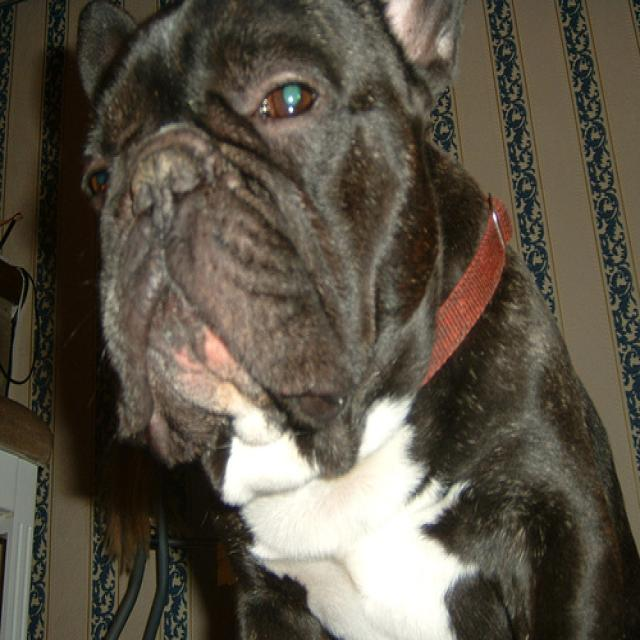dog: (69, 3, 640, 639)
